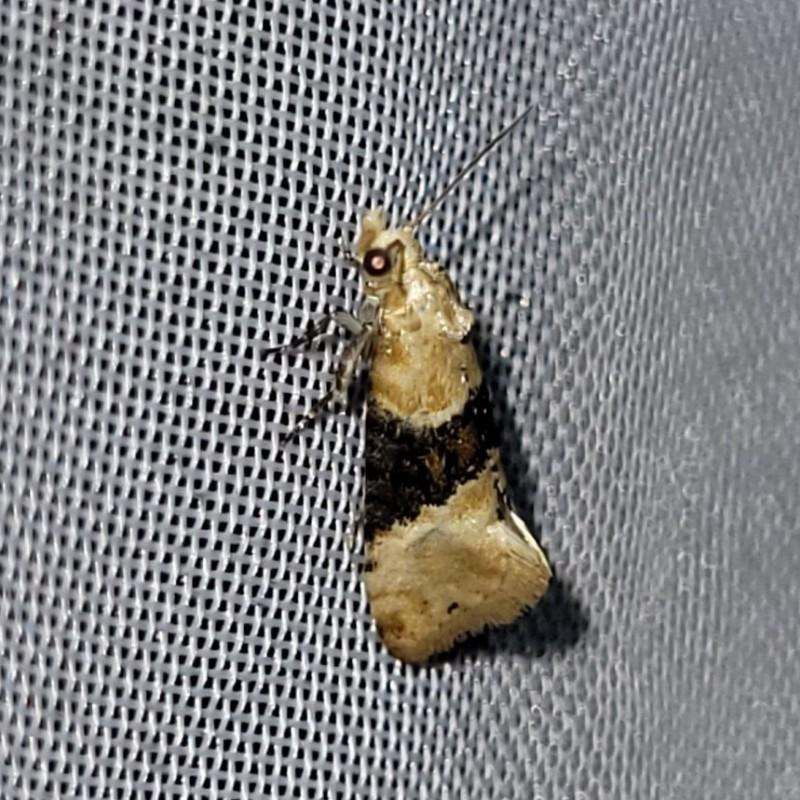Eupoecilia Ambiguella: (264, 99, 558, 667)
